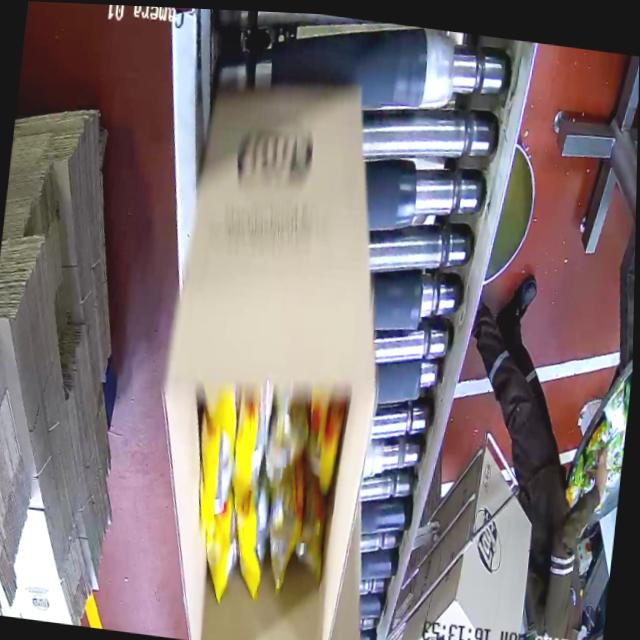SALTED: (185, 390, 339, 626)
